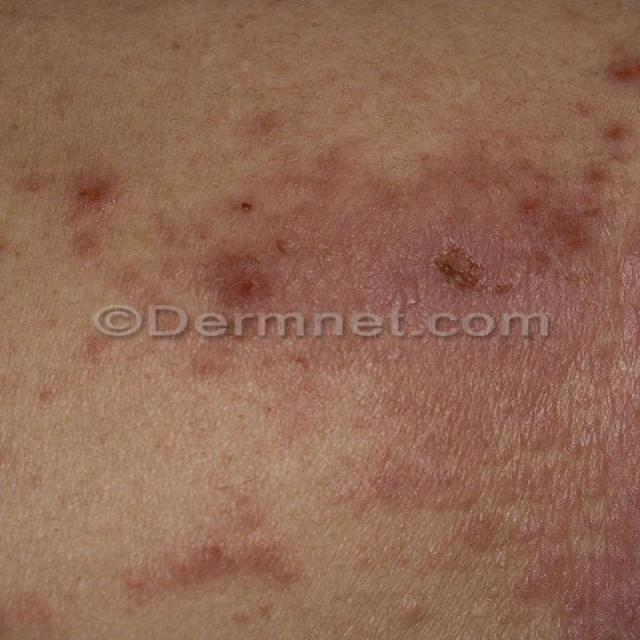Eczema: (31, 52, 640, 628)
